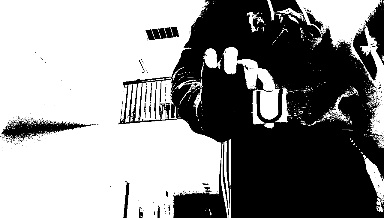U: (253, 90, 287, 121)
